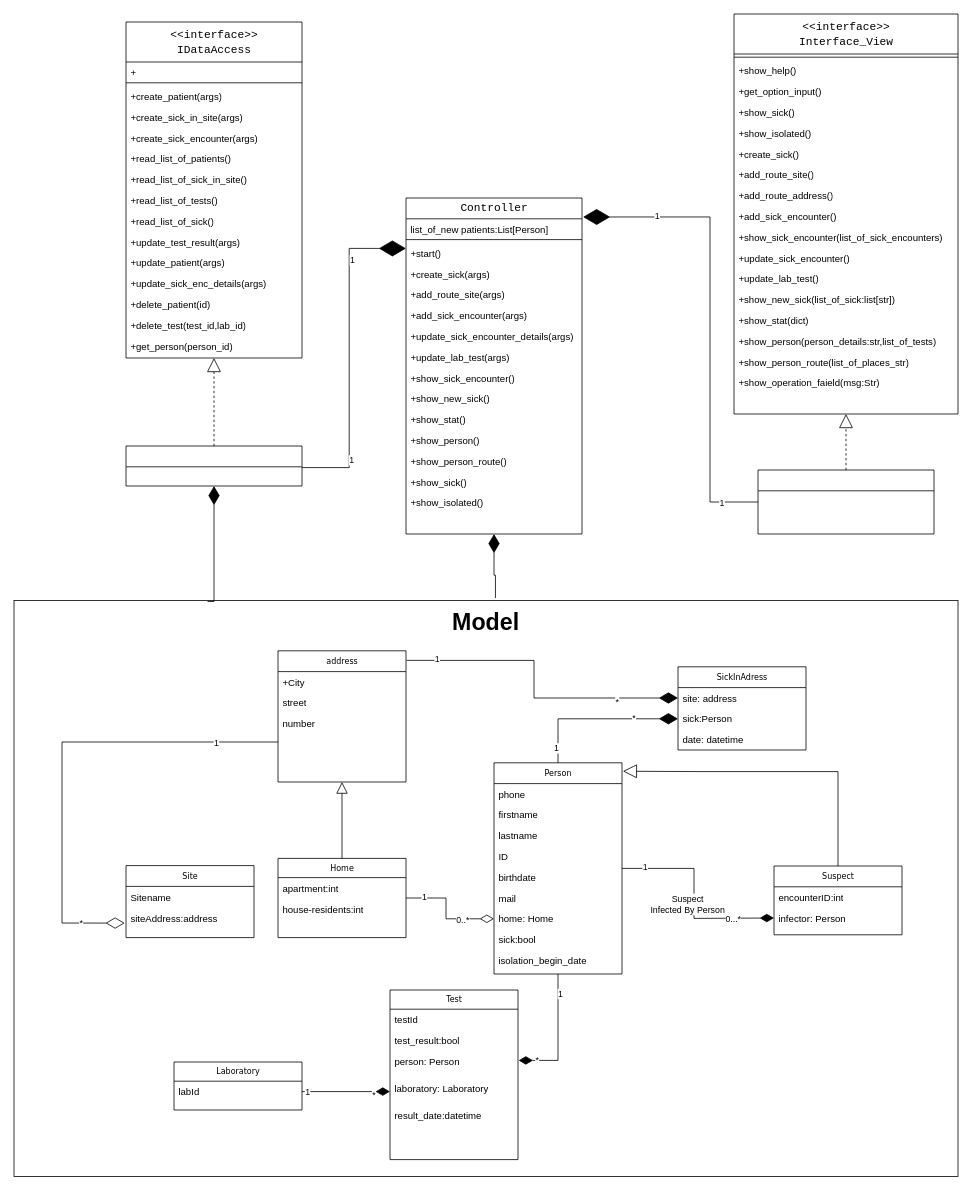
The diagram is 972 pixels wide and 1190 high, and some of its shapes have lost their labels. Here are the shapes that lost their labels. From the top down, the centre of each, then its label:
pixel 213 465: PythonDataAccess
pixel 845 501: ViewConsole
